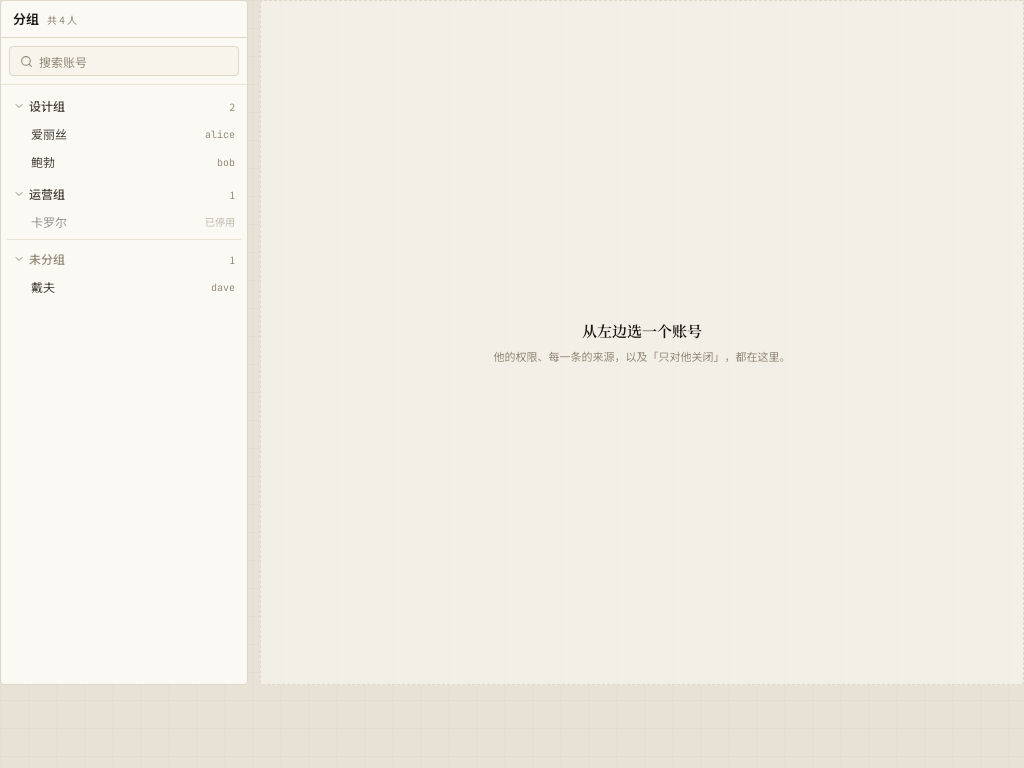
Test: PermissionsSection：左树选人，右侧看权限 › 折叠分组隐藏成员，但组名与计数还在
Click the button "设计组 2" at point(124, 106), box [7, 91, 241, 121]
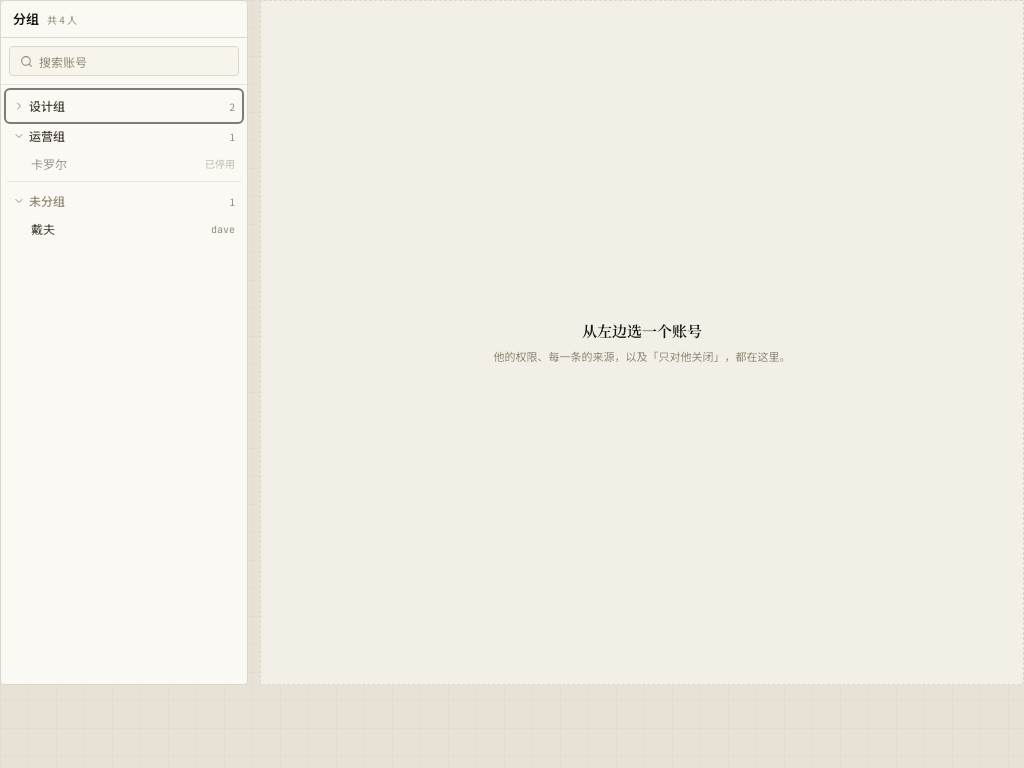
Expected: the text "设计组" is shown, [29, 97, 65, 115]
Expected: the button "爱丽丝" is gone
